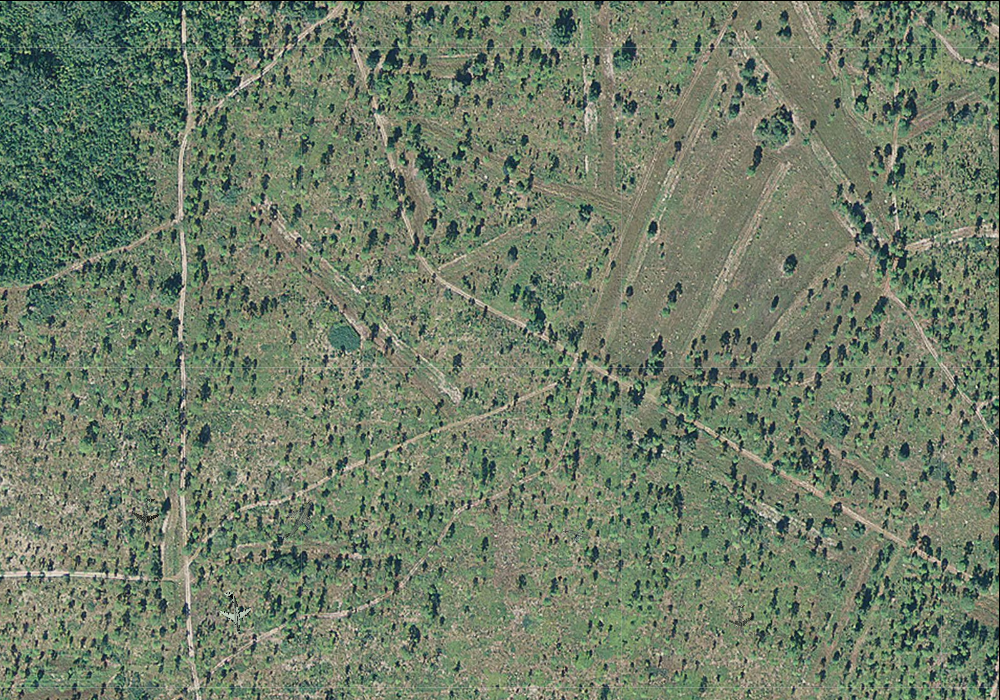plane: (266, 488, 327, 552), (212, 588, 255, 637), (128, 496, 164, 535), (558, 517, 595, 553), (725, 603, 758, 638)
